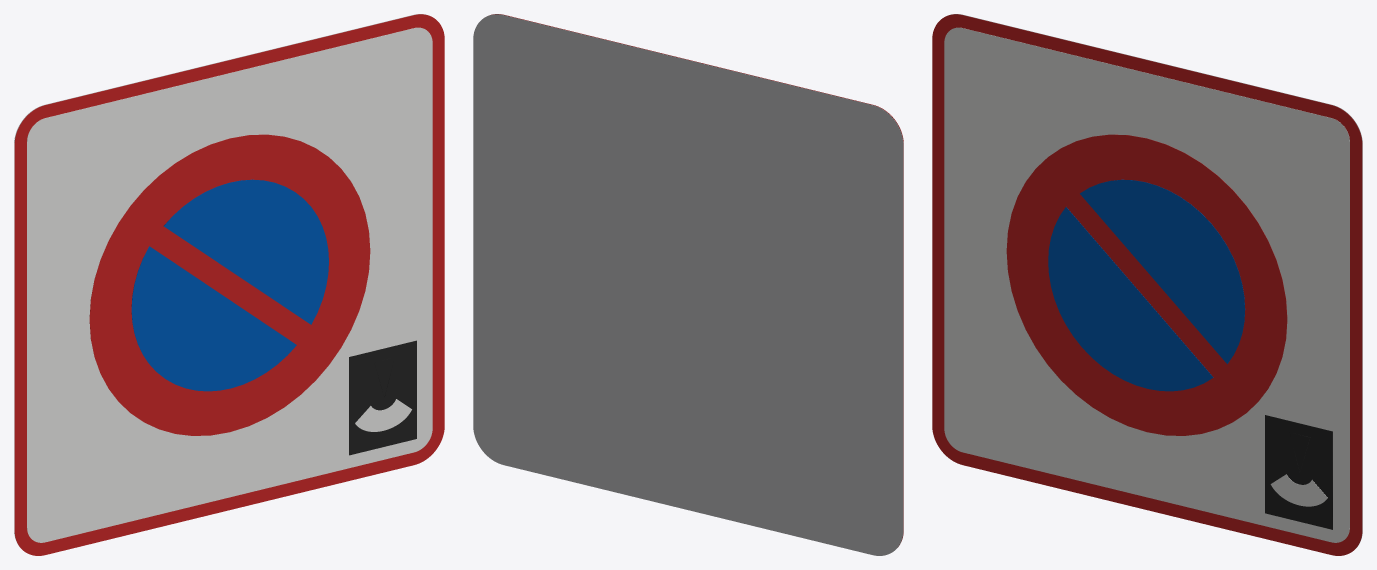
3 renders of one model, left to right at view 1: azimuth 30°, elevation 25°; view 2: azimuth 150°, elevation 25°; view 3: azimuth 330°, elevation 25°, orthographic.
Visible parts, largest first — view 1: B6b3_p01, B6b3_p02, B6b3_p00, B6b3_p06, B6b3_p04, B6b3_p07, B6b3_p08, B6b3_dos; view 2: B6b3_dos, B6b3_p00; view 3: B6b3_p01, B6b3_p02, B6b3_p00, B6b3_p04, B6b3_p06, B6b3_p07, B6b3_p08, B6b3_dos.
Part boxes in pixels (x1,y1,x2,y2): B6b3_p01: [27, 27, 432, 542]; B6b3_p02: [89, 134, 370, 435]; B6b3_p00: [14, 14, 444, 555]; B6b3_p06: [163, 179, 328, 324]; B6b3_p04: [131, 246, 296, 391]; B6b3_p07: [349, 340, 416, 455]; B6b3_p08: [355, 399, 411, 431]; B6b3_dos: [14, 14, 426, 546]; B6b3_dos: [473, 14, 903, 555]; B6b3_p00: [491, 14, 903, 546]; B6b3_p01: [944, 27, 1349, 542]; B6b3_p02: [1006, 134, 1287, 435]; B6b3_p00: [932, 14, 1362, 555]; B6b3_p04: [1048, 207, 1213, 391]; B6b3_p06: [1080, 179, 1245, 364]; B6b3_p07: [1265, 415, 1332, 529]; B6b3_p08: [1270, 474, 1327, 506]; B6b3_dos: [950, 14, 1362, 546].
Bounding box in the file's own units: 0.85 × 0.8498 × 0.0055.
